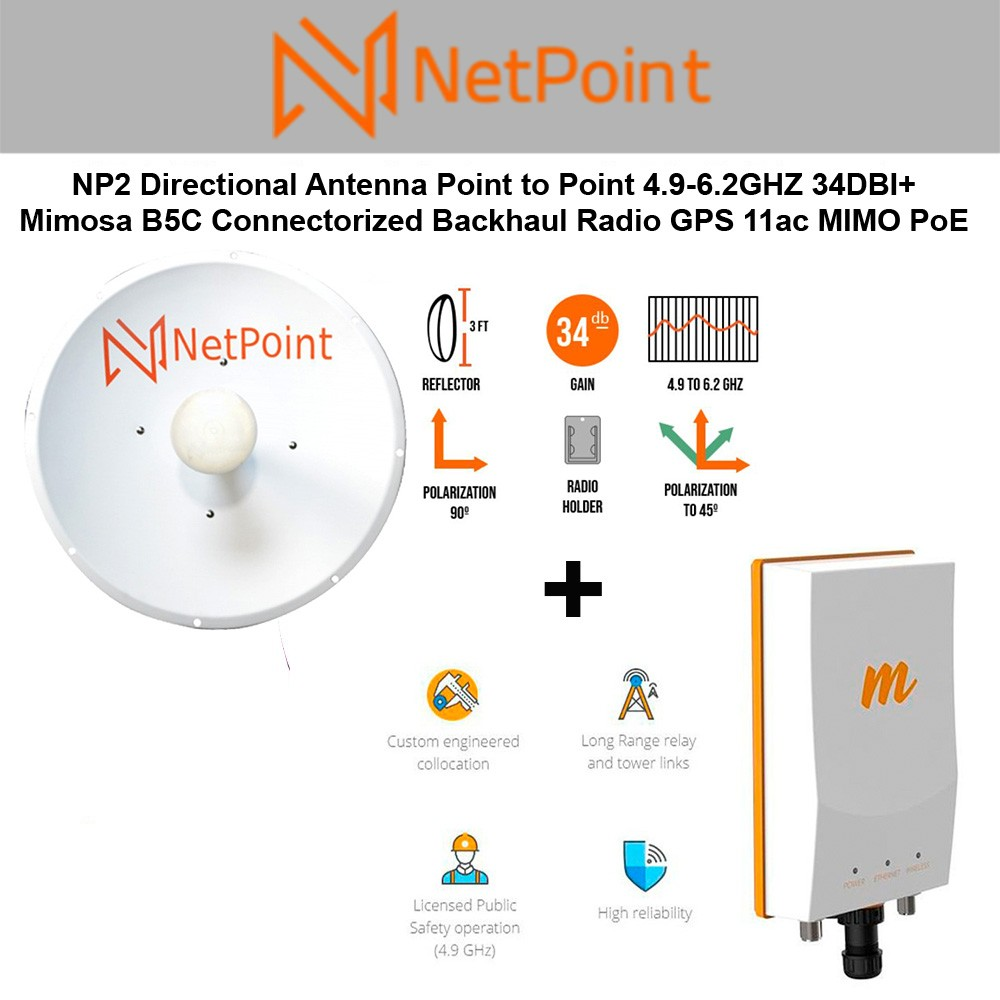ba: (29, 259, 413, 652)
